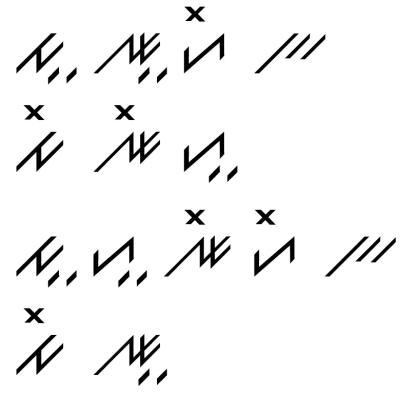hah: (85, 228, 150, 292), (176, 128, 245, 188)
ho: (247, 203, 300, 279), (178, 2, 228, 76)
mbah: (12, 226, 79, 290), (12, 31, 82, 90)
mbo: (9, 100, 68, 176), (11, 305, 67, 378)
ndah: (90, 23, 169, 87), (92, 328, 172, 390)
ndo: (88, 96, 162, 177), (162, 205, 234, 280)
